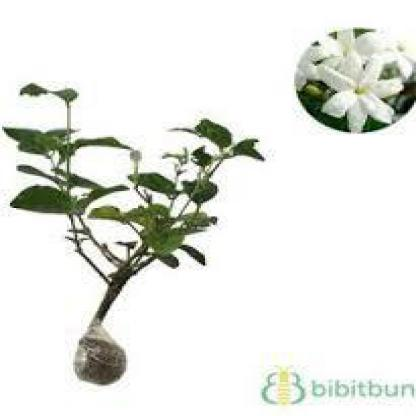Melati: (287, 22, 415, 130)
